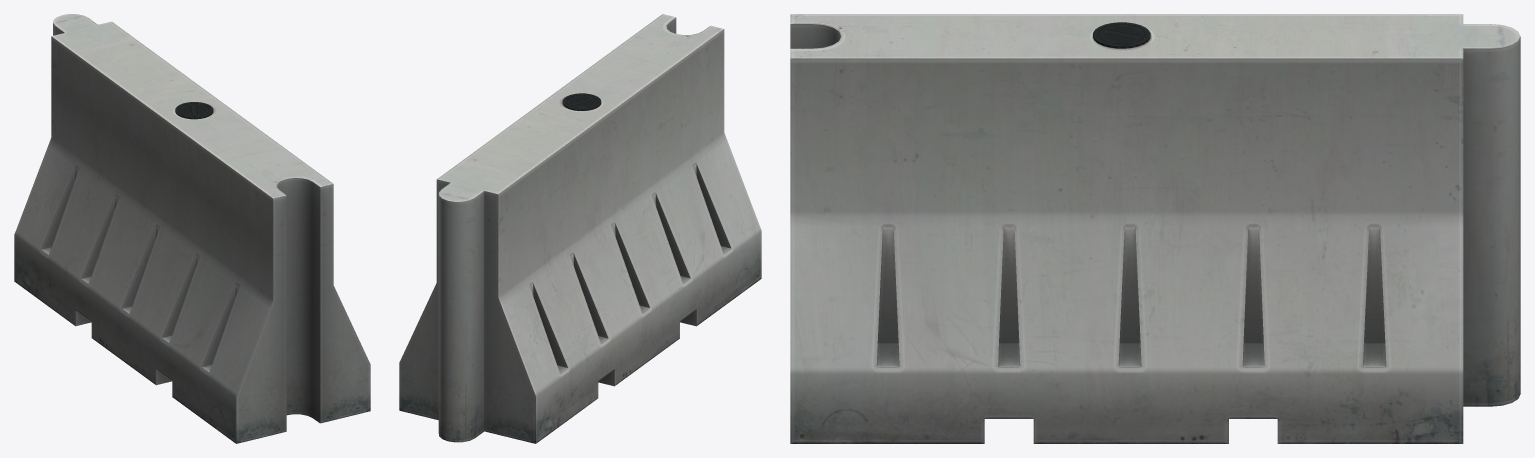
Rendered from Barrier_Jersey_White.FBX.
3 views of the same model, side by side, from view 1: azimuth 30°, elevation 25°; view 2: azimuth 150°, elevation 25°; view 3: azimuth 270°, elevation 25° (orthographic). The views are drawn at different scales.
Visible parts, largest first — view 1: Barrier_Jersey_White; view 2: Barrier_Jersey_White; view 3: Barrier_Jersey_White.
Boxes of the visible parts, bbox=[...] form: Barrier_Jersey_White: bbox=[14, 14, 370, 443]; Barrier_Jersey_White: bbox=[399, 14, 761, 443]; Barrier_Jersey_White: bbox=[790, 14, 1520, 443].
Bounding box in the file's own units: 23.42 × 39.59 × 72.76.
